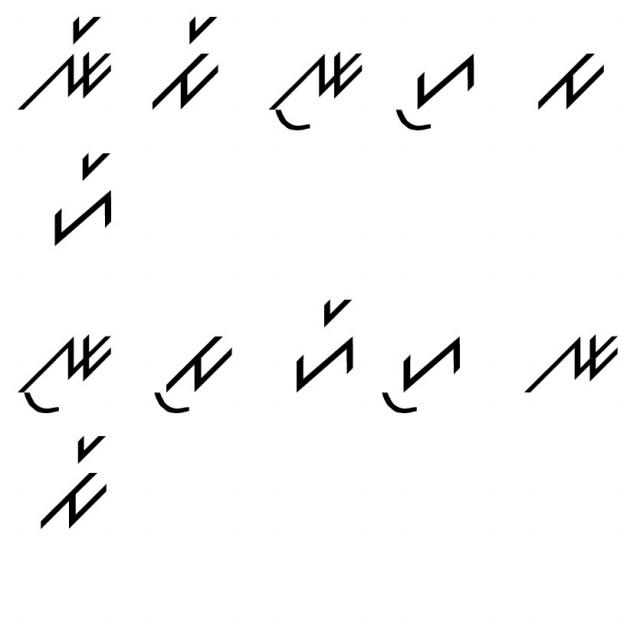har: (44, 141, 127, 253), (282, 284, 361, 397)
haw: (389, 51, 482, 142), (380, 330, 473, 420)
mba: (527, 48, 614, 121)
mbar: (30, 429, 116, 539), (145, 9, 226, 119)
mbaw: (152, 324, 237, 424)
nda: (515, 314, 624, 403)
ndar: (15, 13, 119, 112)
ndaw: (258, 44, 370, 140), (6, 325, 118, 419)
